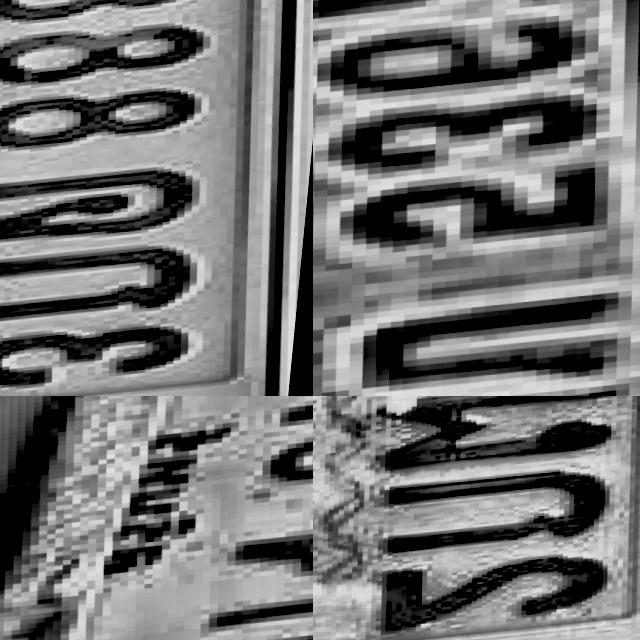license-plate: (313, 0, 640, 396), (0, 0, 313, 396), (313, 396, 640, 640), (0, 396, 313, 640)
